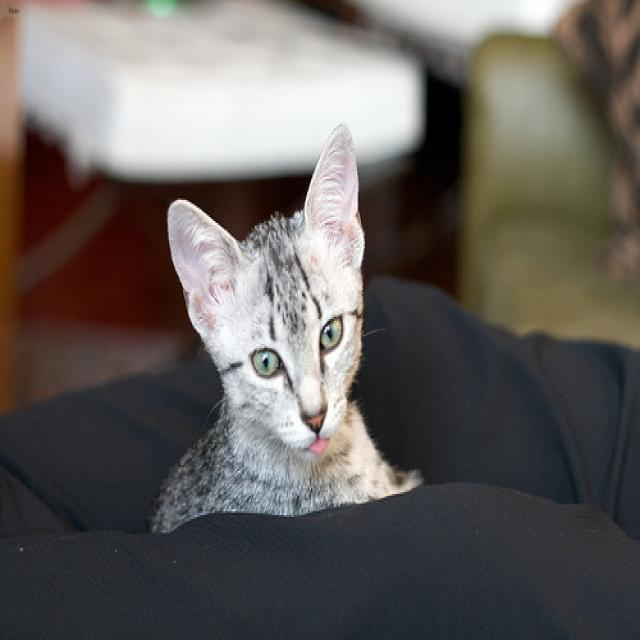Egyptian_Mau: (160, 118, 400, 464)
